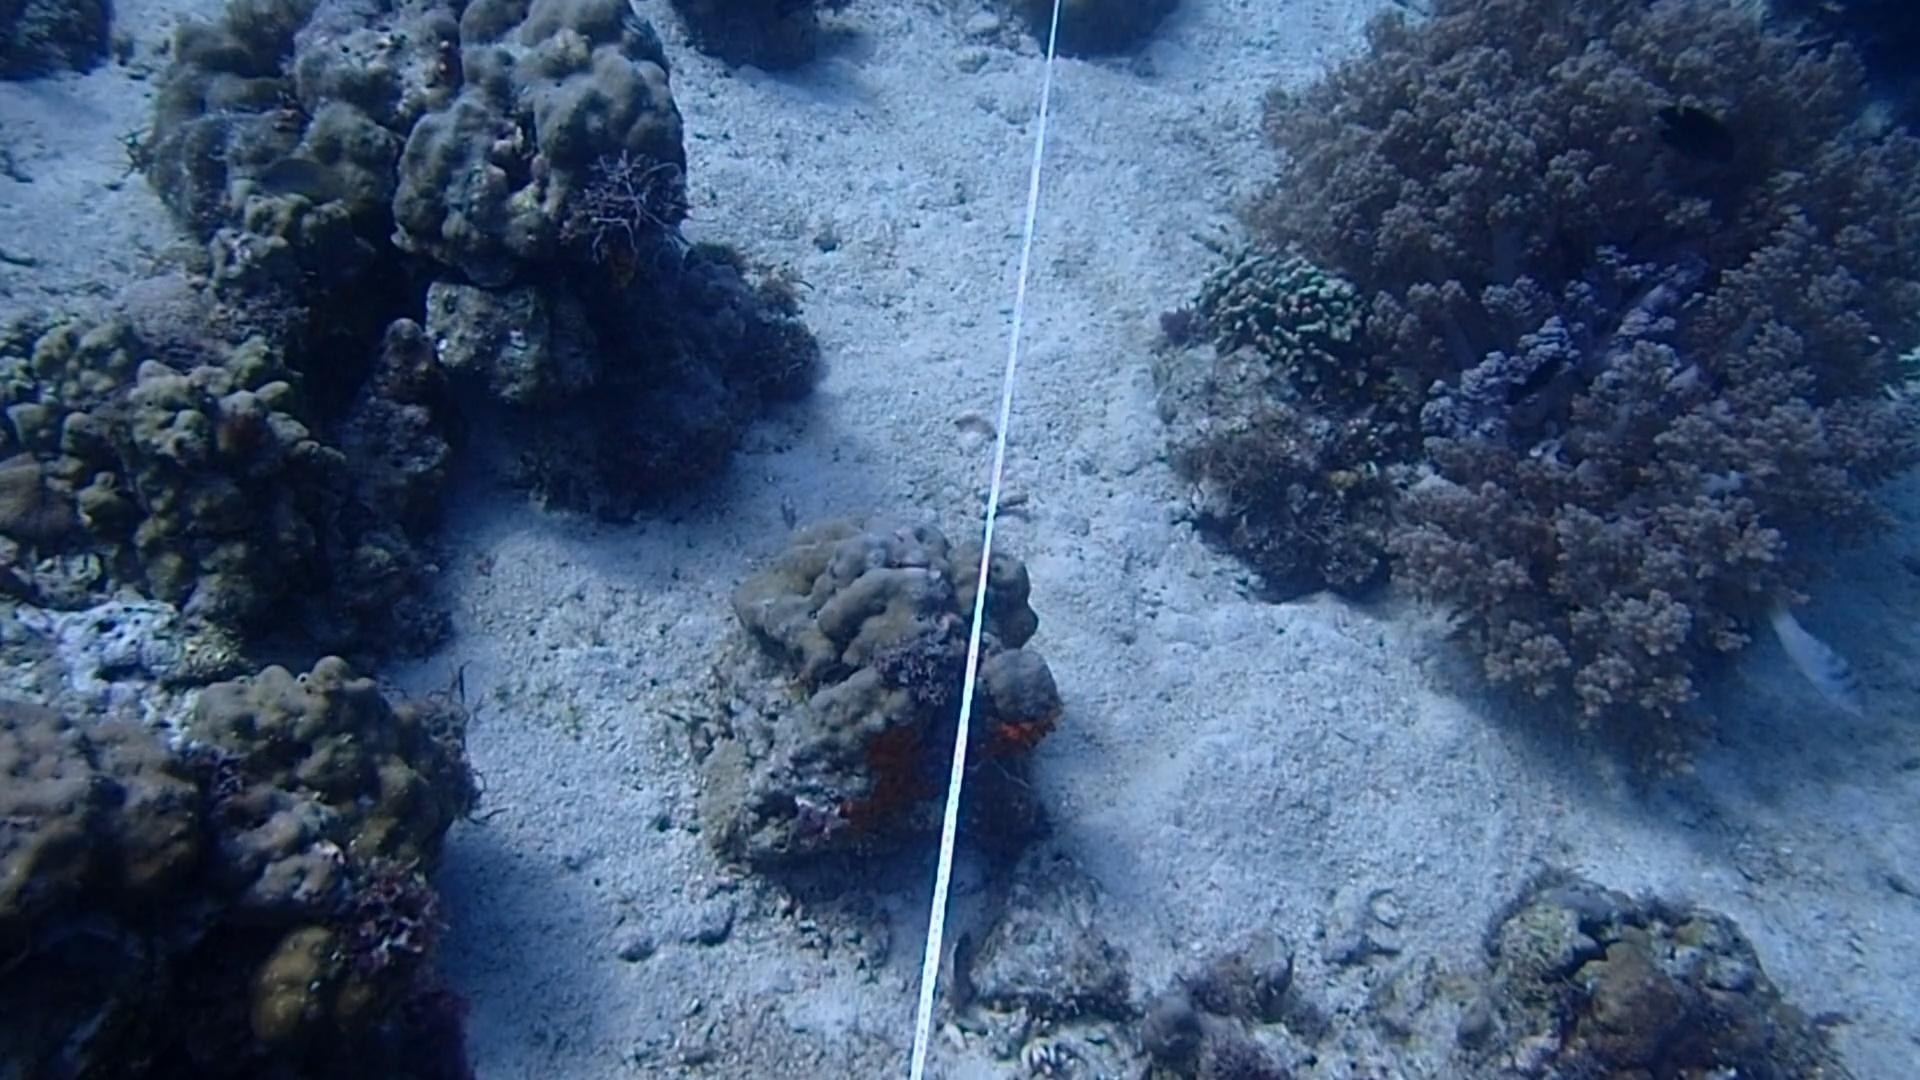Dark Fish: (1650, 90, 1742, 173), (1513, 347, 1568, 413)
Light Fish w Back Stripes: (1762, 599, 1878, 725)
